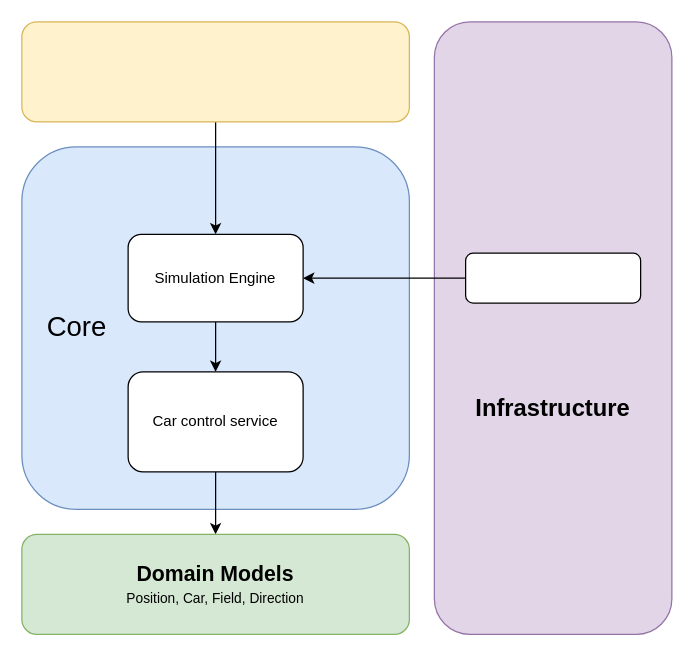
This 694x656 diagram has some shape labels left out. The centre of each missing label's shape, as x and y in pixels:
"Car store Field Store" goes at [552,277].
"UI Simulation Runner" goes at [215,71].
